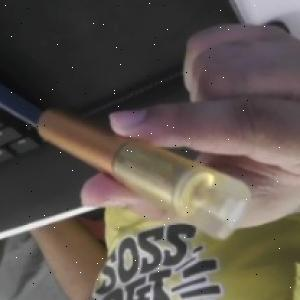Golden-E-Ciggirate: (35, 104, 258, 241)
